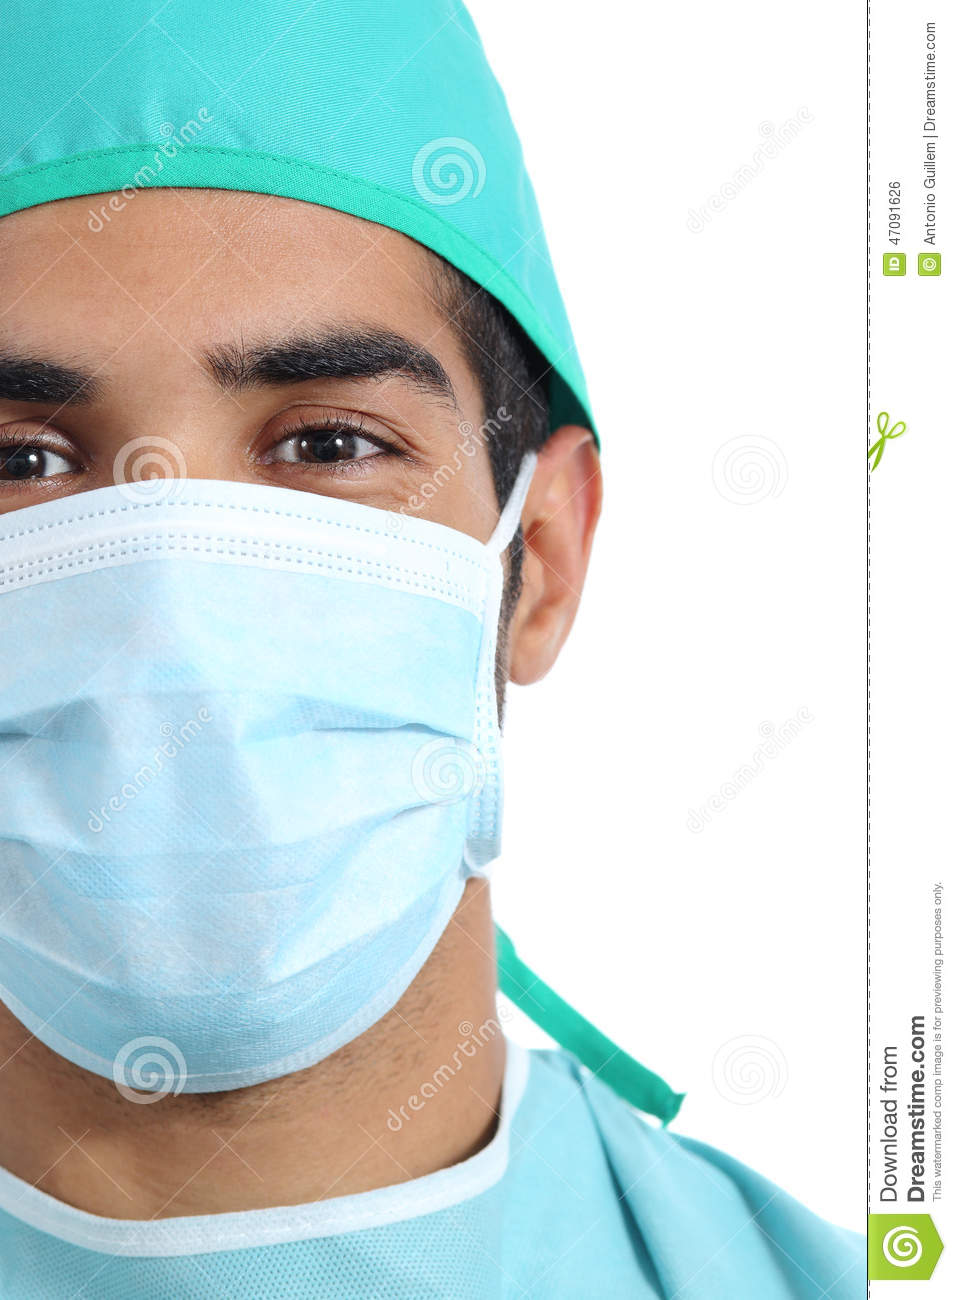mask: (8, 515, 474, 1053)
